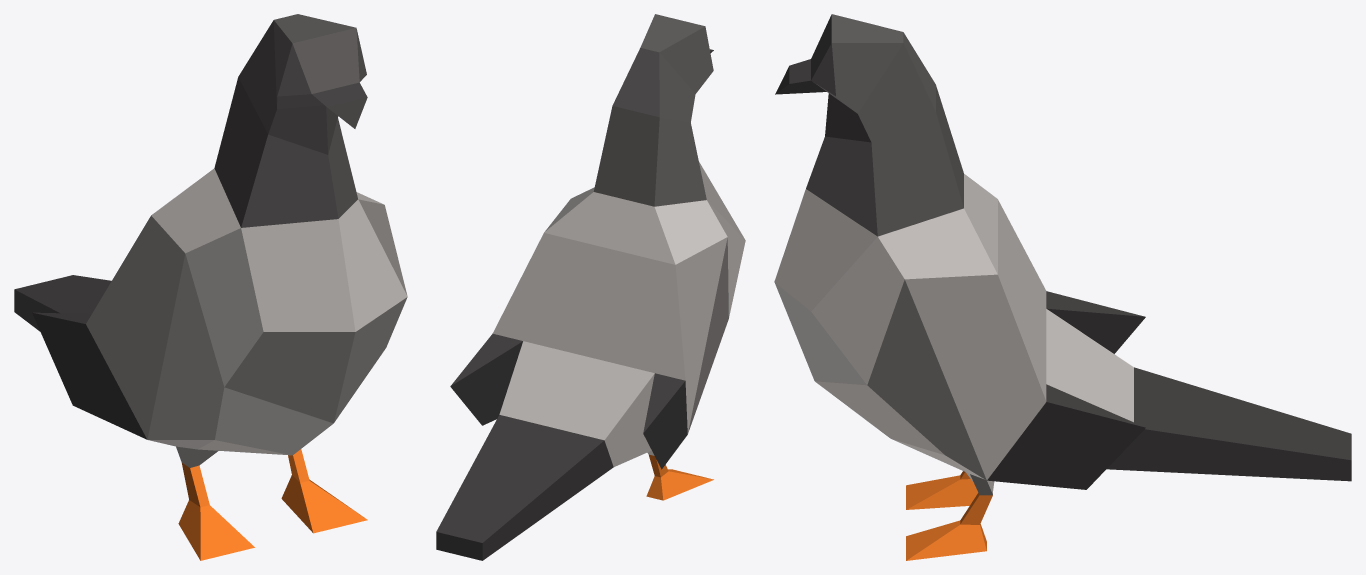
Rendered from pigeon.glb.
3 views of the same model, side by side, from view 1: azimuth 30°, elevation 25°; view 2: azimuth 150°, elevation 25°; view 3: azimuth 270°, elevation 25° (orthographic). The views are drawn at different scales.
Visible parts, largest first — view 1: pigeon; view 2: pigeon; view 3: pigeon.
Boxes of the visible parts, x1,y1,x2,y2 form: pigeon: [14, 14, 407, 560]; pigeon: [436, 14, 745, 560]; pigeon: [774, 14, 1351, 560].
Bounding box in the file's own units: 0.2339 × 0.4869 × 0.515.
1 material, 1 textured.
